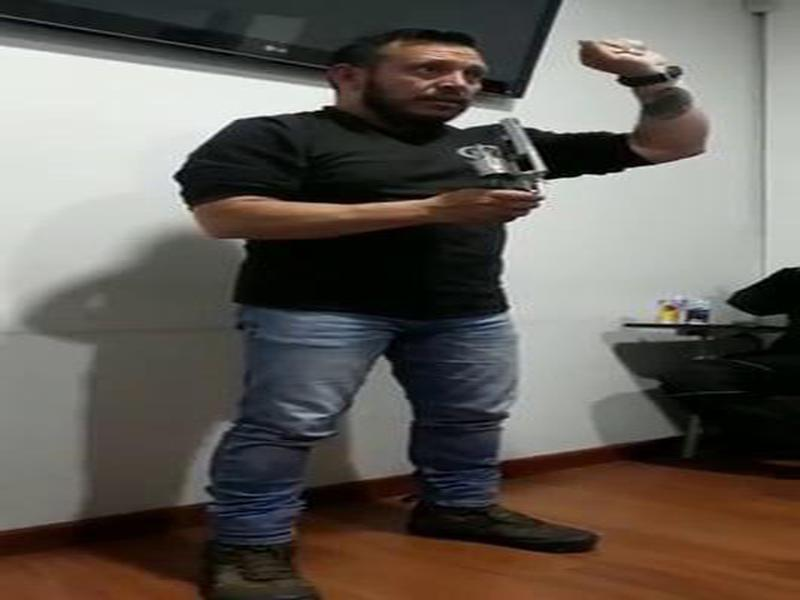Revolver: (463, 100, 569, 247)
